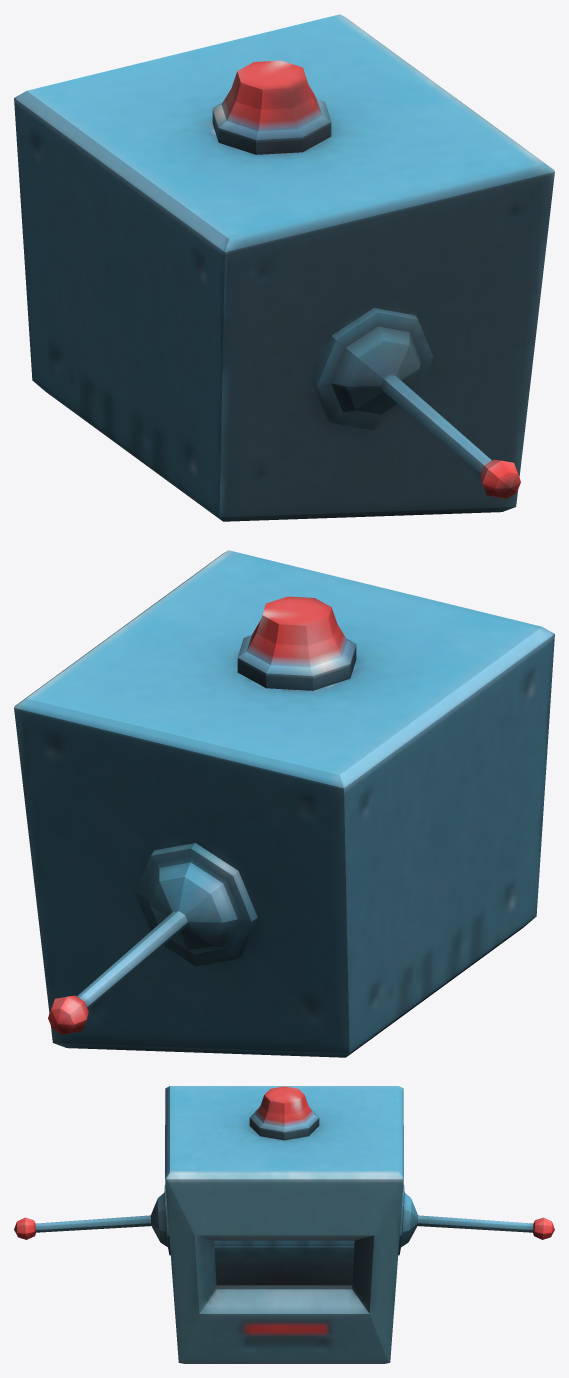
File: ROBOT HEAD.fbx
The picture shows the model from 3 angles, top to bottom: view 1: azimuth 30°, elevation 25°; view 2: azimuth 150°, elevation 25°; view 3: azimuth 270°, elevation 25°; orthographic projection. The views are drawn at different scales.
Visible parts, largest first — view 1: RobotHead; view 2: RobotHead; view 3: RobotHead.
Part boxes in pixels (left/top/right/bottom): RobotHead: left=14, top=14, right=554, bottom=521; RobotHead: left=14, top=550, right=554, bottom=1057; RobotHead: left=14, top=1086, right=554, bottom=1363.
Bounding box in the file's own units: 36.86 × 43.29 × 92.31.
